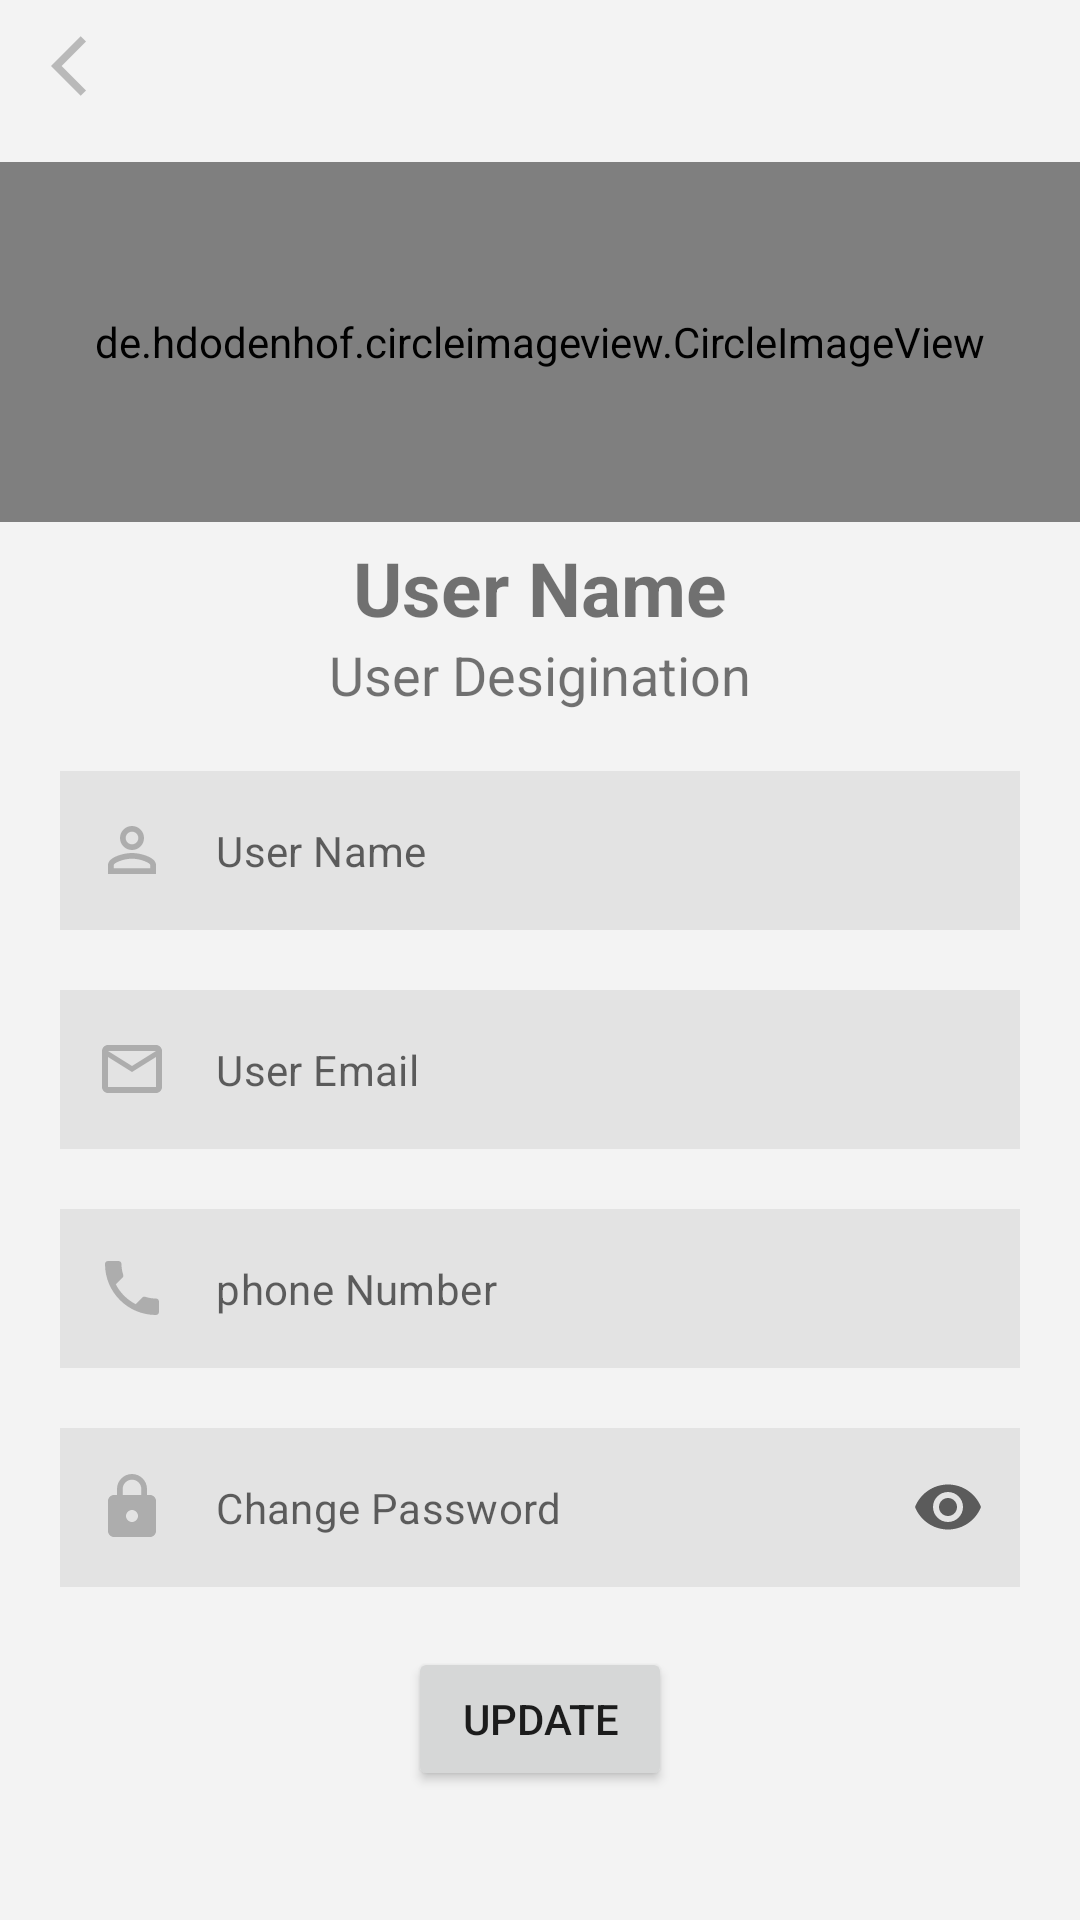

Icon click points for this 1080px×1920px phone screenshot, format (x=x, y=y):
backbtn: (x=68, y=66)
